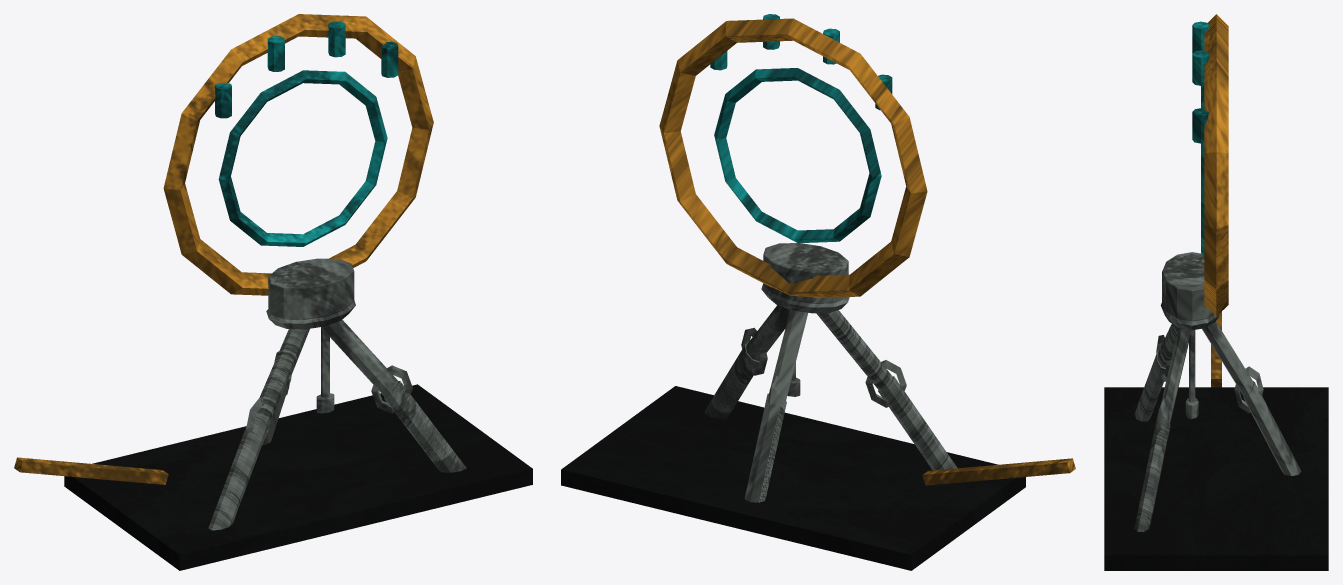
The model's file is west-scaffold-handhold-frame.glb.
3 views of the same model, side by side, from view 1: azimuth 30°, elevation 25°; view 2: azimuth 150°, elevation 25°; view 3: azimuth 270°, elevation 25° (orthographic). The views are drawn at different scales.
Parts seen in each view (by area): view 1: west-scaffold-handhold-frame; view 2: west-scaffold-handhold-frame; view 3: west-scaffold-handhold-frame.
Part boxes in pixels (x1,y1,x2,y2): west-scaffold-handhold-frame: (14,14,532,570); west-scaffold-handhold-frame: (561,14,1075,570); west-scaffold-handhold-frame: (1104,14,1328,570).
Bounding box in the file's own units: 5.97 × 5.91 × 2.6.
Materials: 1 (1 with a texture image).
